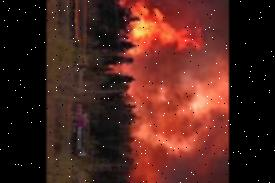fire: (121, 0, 209, 64)
